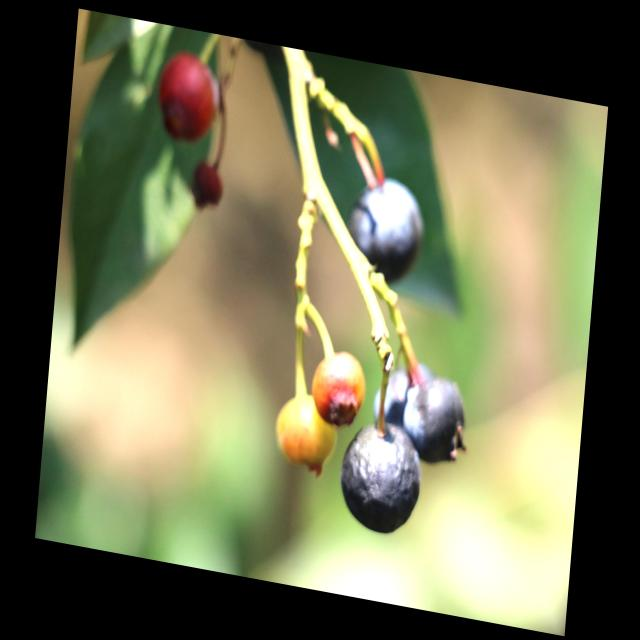blueberry: (337, 418, 431, 544), (346, 168, 428, 287), (402, 375, 472, 469), (372, 354, 439, 431)
blueberry-halfripe: (154, 49, 222, 142), (268, 388, 342, 472), (307, 340, 368, 427)
